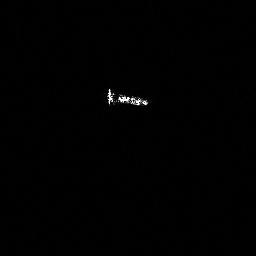ship: (107, 88, 150, 107)
